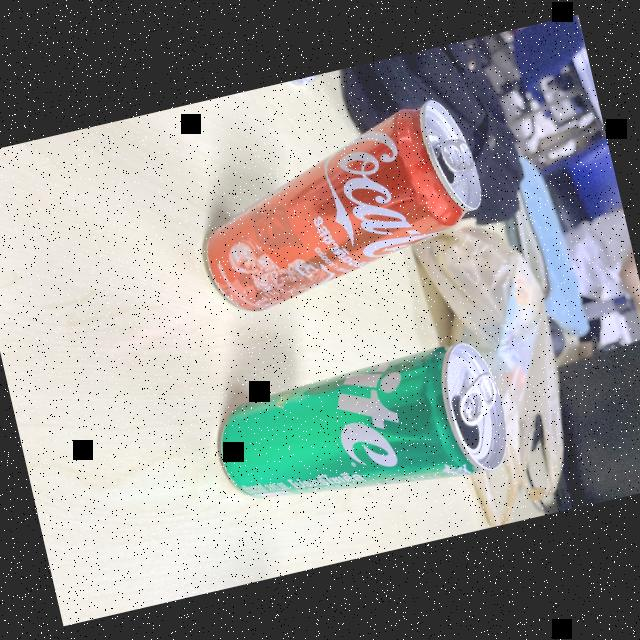can: (171, 90, 498, 322), (208, 324, 516, 534)
